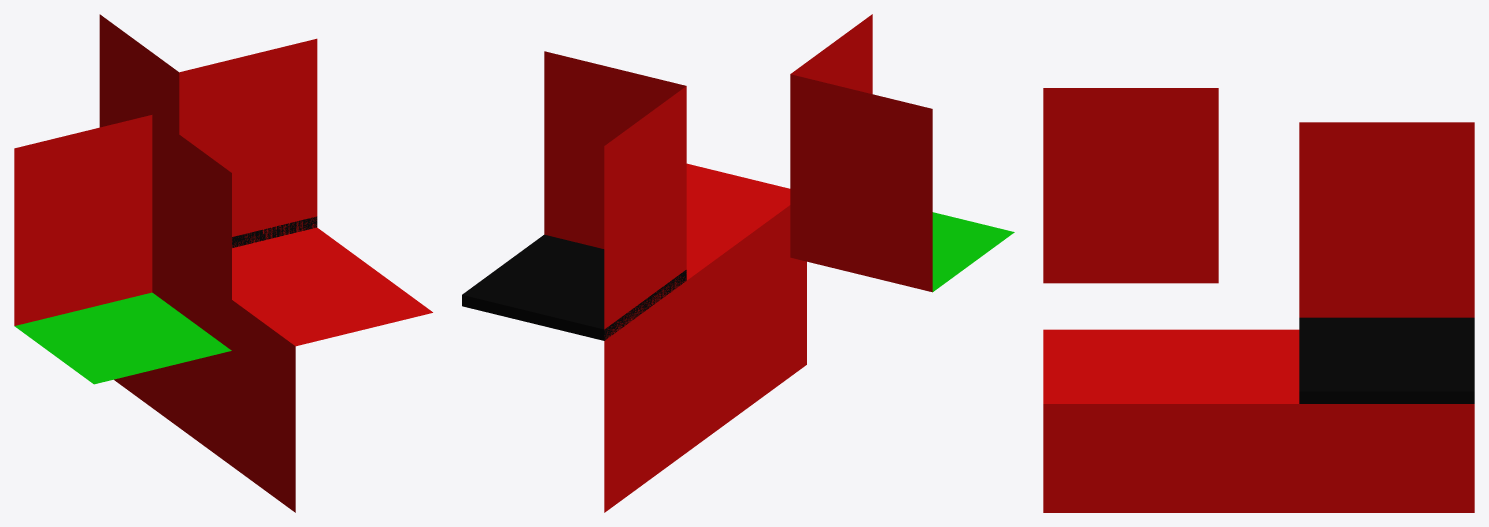
3 renders of one model, left to right at view 1: azimuth 30°, elevation 25°; view 2: azimuth 150°, elevation 25°; view 3: azimuth 270°, elevation 25°, orthographic. The views are drawn at different scales.
Visible parts, largest first — view 1: None_P_E_E_A_A_W_A_E_None; view 2: None_P_E_E_A_A_W_A_E_None; view 3: None_P_E_E_A_A_W_A_E_None.
Boxes of the visible parts, <box> form: None_P_E_E_A_A_W_A_E_None: <box>14,14,432,512</box>; None_P_E_E_A_A_W_A_E_None: <box>462,14,1014,512</box>; None_P_E_E_A_A_W_A_E_None: <box>1043,88,1474,512</box>.
Bounding box in the file's own units: 100 × 100 × 100.
